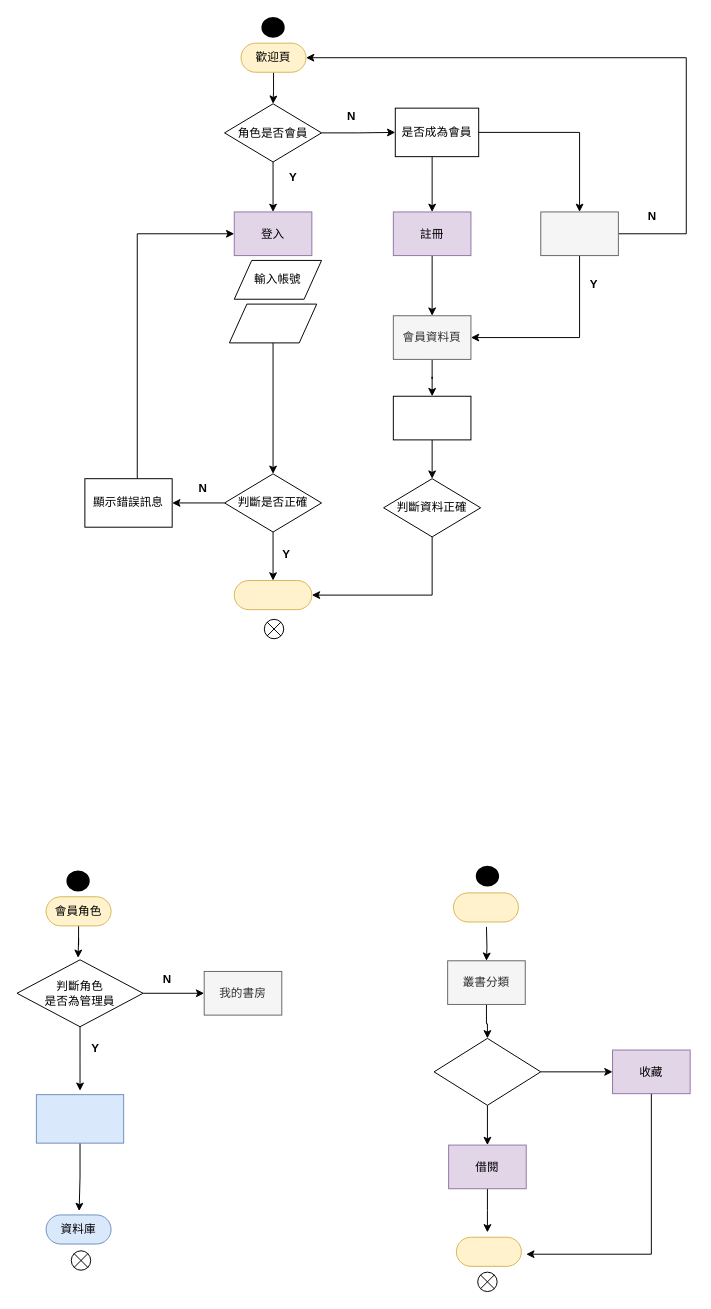
Some shapes in this 711 by 1309 pixel diagram are drawn without their labels. The centre of each missing label's shape, as x and y in pixels:
FAQ: pixel 579 233
判斷借閱 還是收藏: pixel 487 1071
圖書主頁: pixel 485 907
圖書後台: pixel 79 1118
輸入密碼: pixel 272 323
進入圖書主頁: pixel 272 595
預約書單: pixel 488 1251
驗證資料: pixel 431 417
